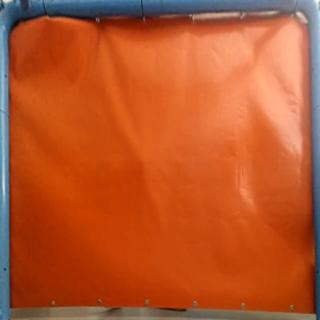Hit-hRxx: (137, 157, 148, 164)
